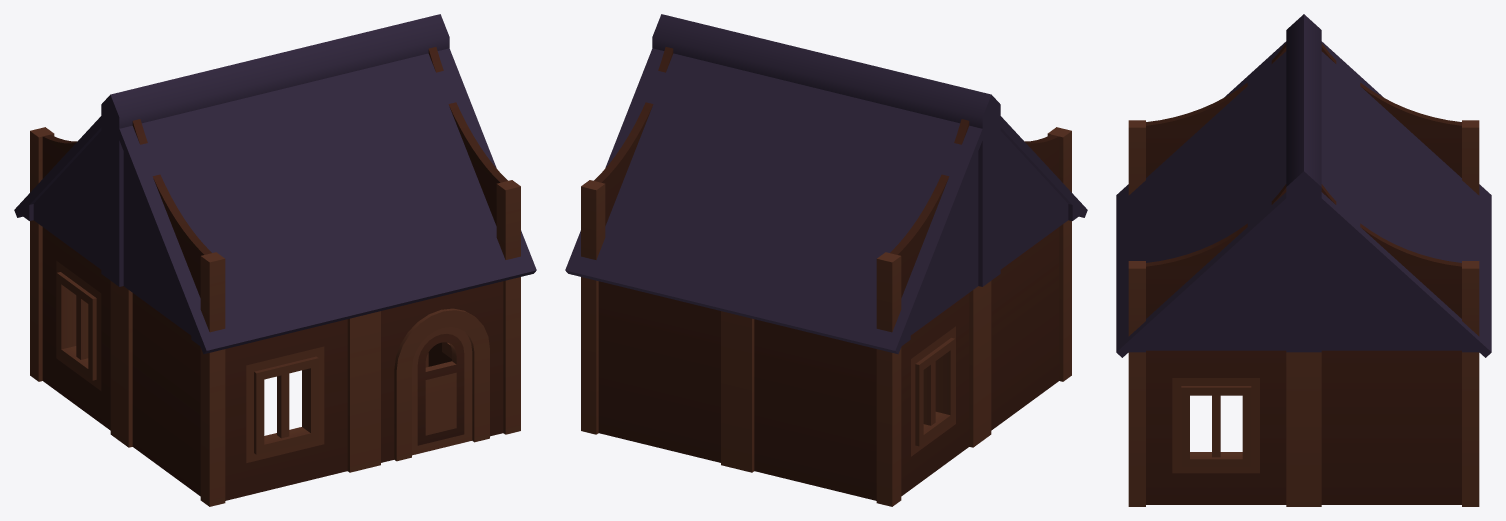
Rendered from hutte-sorciere-1.glb.
3 views of the same model, side by side, from view 1: azimuth 30°, elevation 25°; view 2: azimuth 150°, elevation 25°; view 3: azimuth 270°, elevation 25° (orthographic). The views are drawn at different scales.
Visible parts, largest first — view 1: roof-high, wall-wood-window-shutters; view 2: roof-high, wall-wood-window-shutters; view 3: roof-high, wall-wood-window-shutters.
Part boxes in pixels (x1,y1,x2,y2): roof-high: [14, 14, 536, 354]; wall-wood-window-shutters: [30, 47, 520, 506]; roof-high: [565, 14, 1087, 354]; wall-wood-window-shutters: [581, 47, 1071, 506]; roof-high: [1116, 14, 1491, 357]; wall-wood-window-shutters: [1128, 43, 1479, 506].
Size of the model in its own units: 6.36 by 6.42 by 6.42.
Materials: 2 (1 with a texture image).
